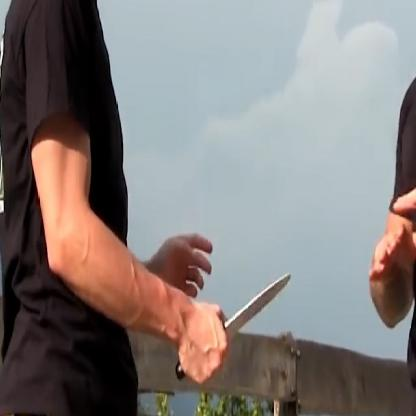knife: (171, 260, 298, 394)
